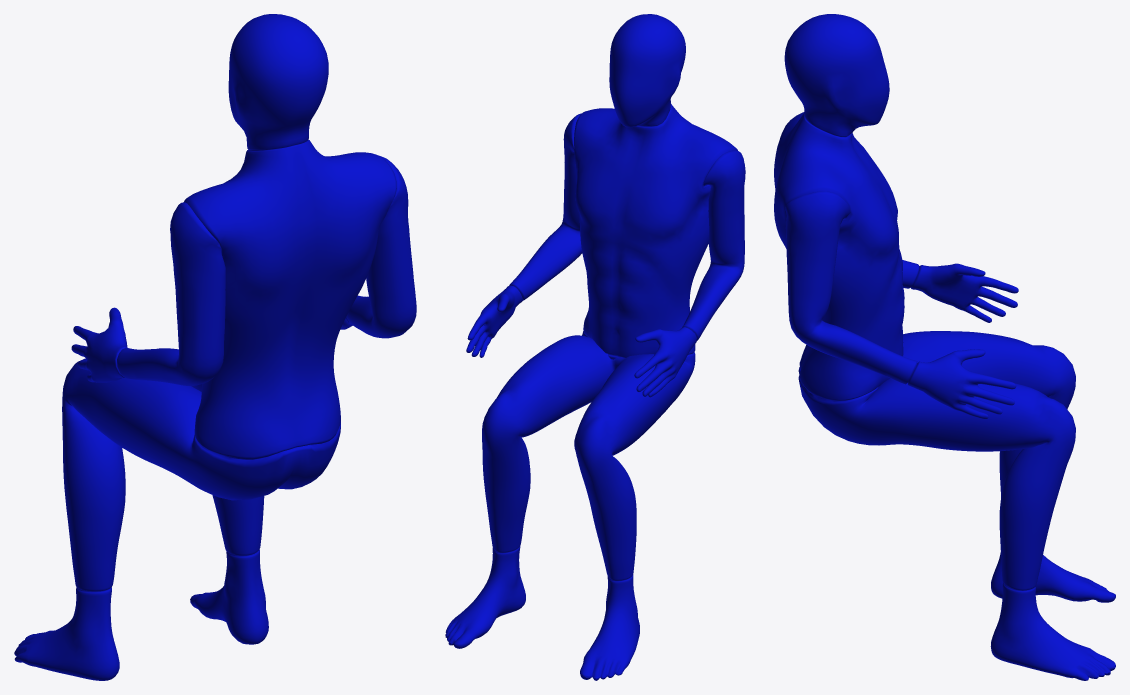
The model's file is PersoSalon1.obj.
3 views of the same model, side by side, from view 1: azimuth 30°, elevation 25°; view 2: azimuth 150°, elevation 25°; view 3: azimuth 270°, elevation 25° (orthographic). The views are drawn at different scales.
Visible parts, largest first — view 1: Ch36_Mesh; view 2: Ch36_Mesh; view 3: Ch36_Mesh.
Boxes of the visible parts, x1,y1,x2,y2 form: Ch36_Mesh: (14, 14, 416, 680); Ch36_Mesh: (445, 14, 745, 680); Ch36_Mesh: (774, 14, 1115, 680).
Bounding box in the file's own units: 1.2 × 3.26 × 1.63.
